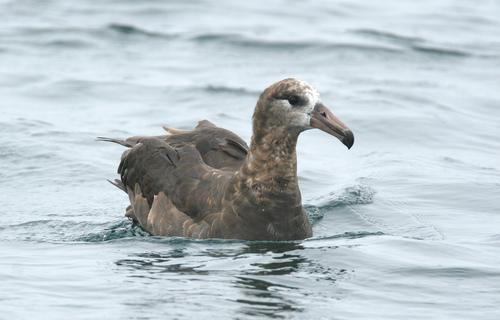001.Black_footed_Albatross: (94, 79, 356, 242)
